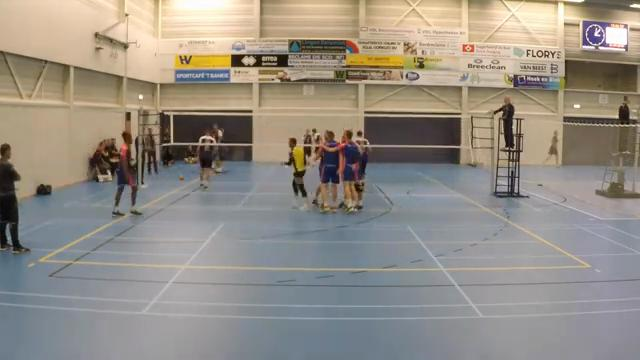Player: (323, 130, 360, 211), (112, 131, 141, 215), (283, 137, 309, 210), (340, 130, 360, 211), (319, 131, 339, 211), (355, 130, 369, 209), (197, 131, 216, 189), (312, 143, 323, 205), (544, 130, 558, 166), (302, 129, 312, 156), (213, 146, 222, 172)
ball: (178, 174, 185, 180)
